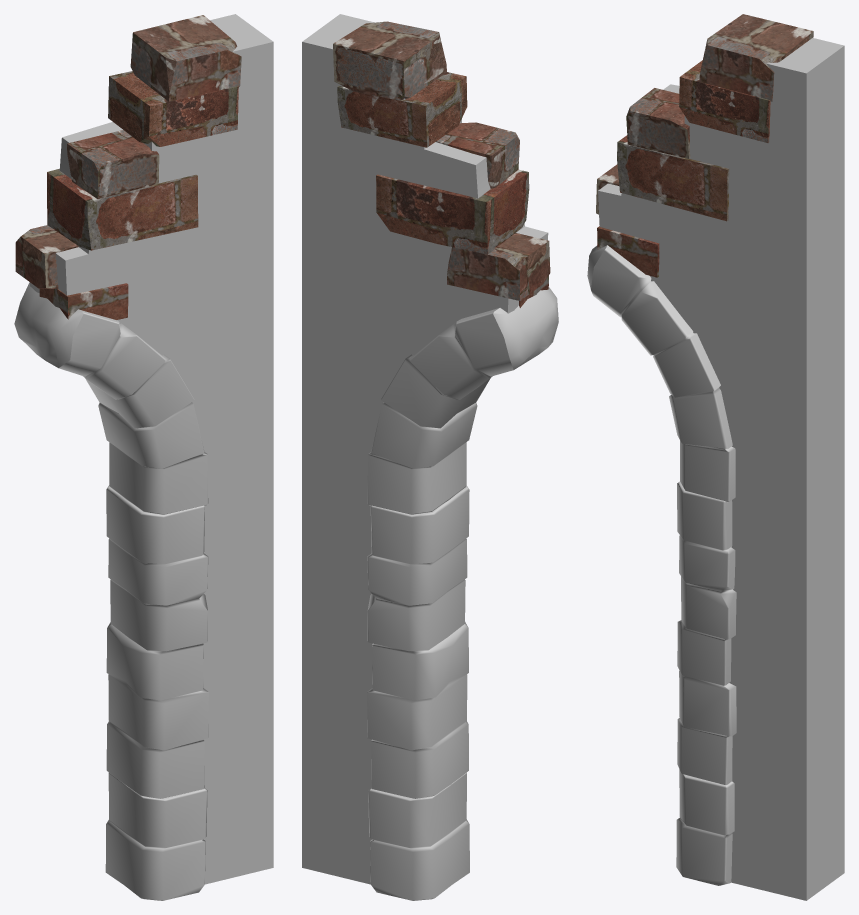
File: SM_Archway_Ruined_03.fbx
The picture shows the model from 3 angles, left to right: view 1: azimuth 30°, elevation 25°; view 2: azimuth 150°, elevation 25°; view 3: azimuth 330°, elevation 25°; orthographic projection.
Visible parts, largest first — view 1: SM_Archway_Ruined_03_LOD0; view 2: SM_Archway_Ruined_03_LOD0; view 3: SM_Archway_Ruined_03_LOD0.
Part boxes in pixels (box(x1,y1,x2,y2)): SM_Archway_Ruined_03_LOD0: box(14, 14, 273, 900); SM_Archway_Ruined_03_LOD0: box(302, 14, 558, 900); SM_Archway_Ruined_03_LOD0: box(587, 14, 844, 900).
Size of what is drawn, in the model's own units: 167 by 606 by 68.54.
